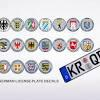K: (66, 64, 77, 78)
Q: (89, 54, 100, 65)
R: (74, 61, 85, 74)
